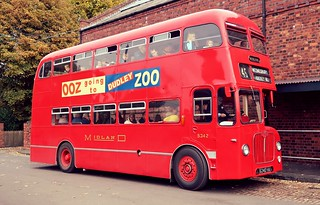bus: (28, 9, 283, 191)
